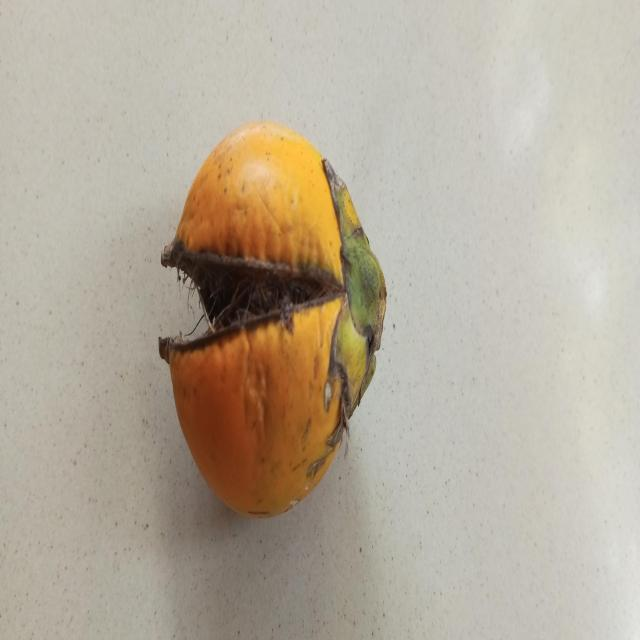damaged: (158, 121, 389, 519)
